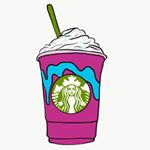cups: (34, 47, 108, 146)
